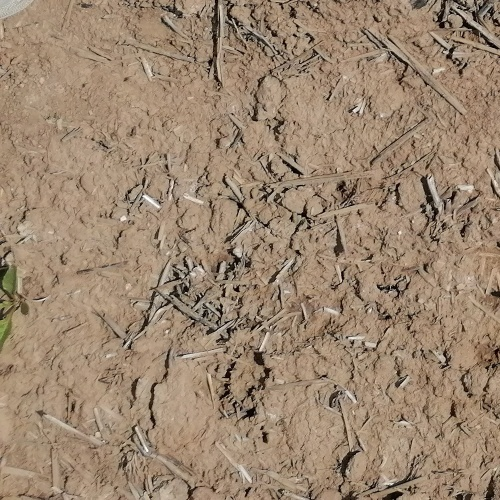beet: (0, 263, 28, 349)
